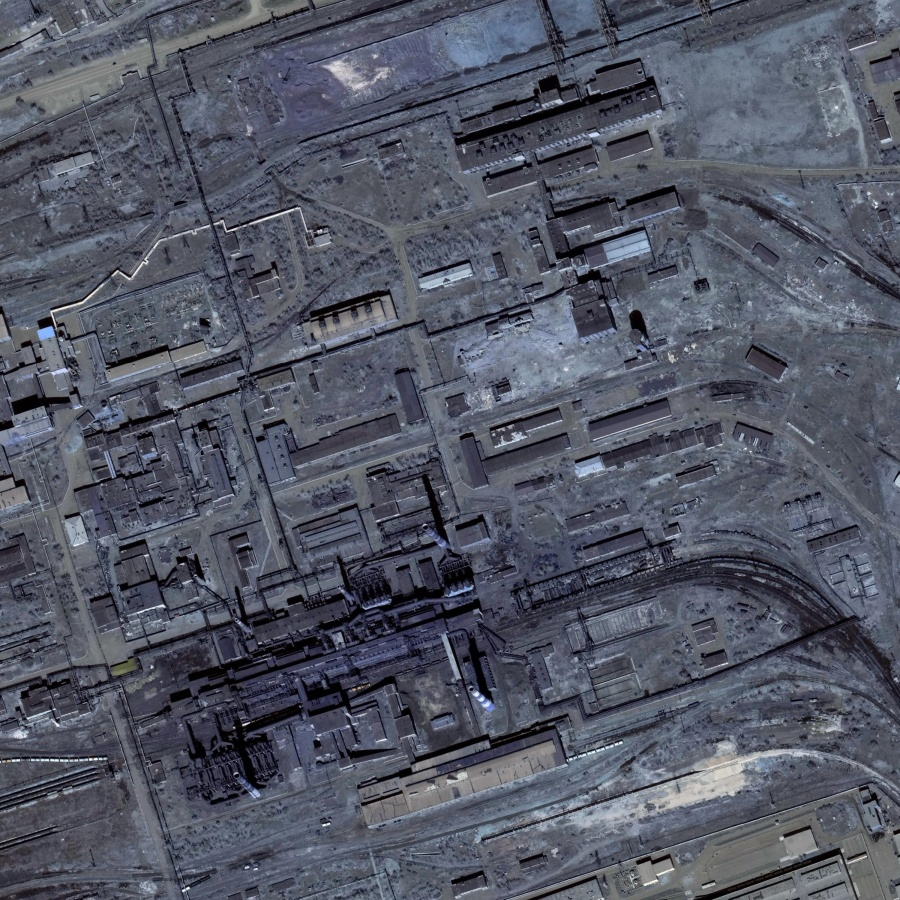PowerPlant: (163, 511, 515, 805)
